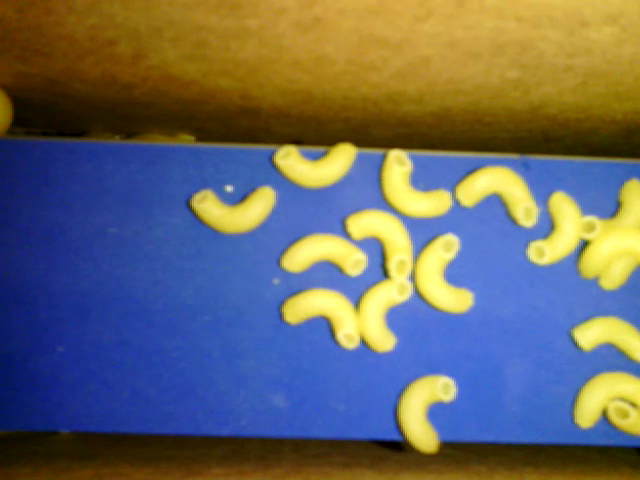elbow: (280, 284, 362, 353), (454, 164, 540, 229), (394, 374, 459, 457), (411, 233, 474, 317), (344, 207, 416, 280), (380, 150, 454, 218), (272, 141, 362, 191), (525, 193, 585, 267), (357, 278, 414, 355), (280, 232, 368, 280), (191, 187, 280, 232), (572, 373, 639, 427), (571, 315, 639, 365), (582, 180, 637, 239), (578, 231, 639, 280), (599, 252, 639, 290), (607, 400, 639, 436)
